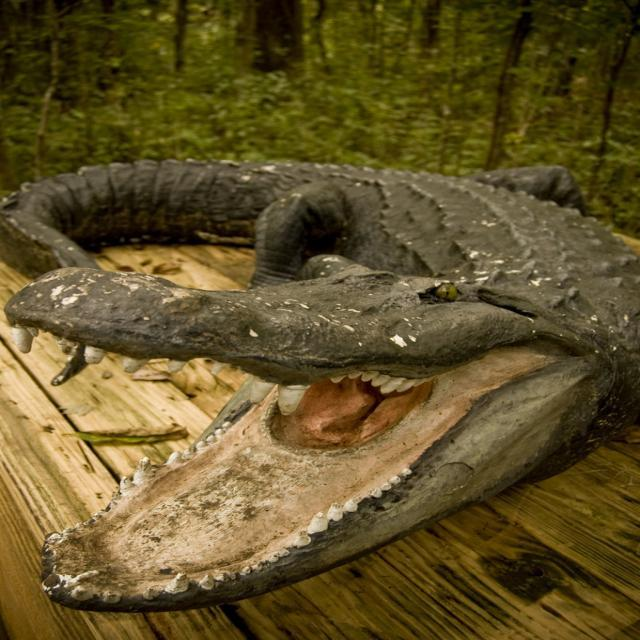crocodile: (0, 116, 639, 634)
